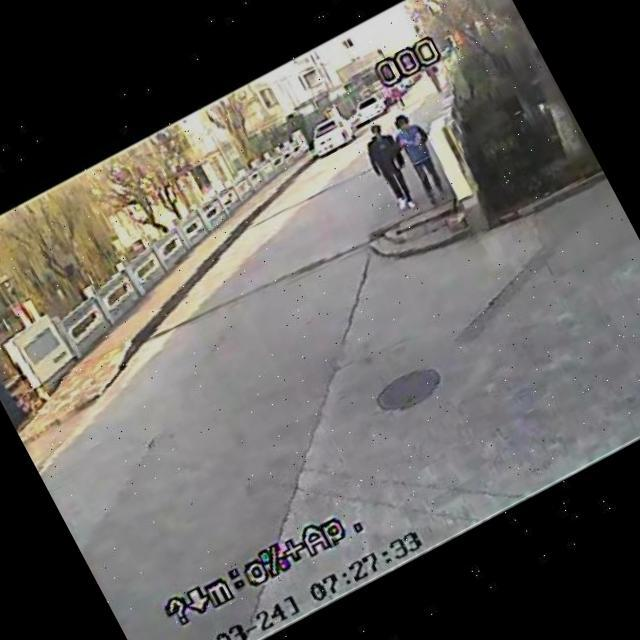person: (373, 96, 464, 204), (348, 108, 428, 222)
